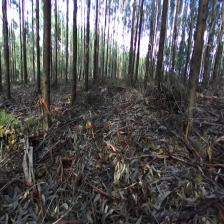trunk: (184, 8, 208, 118), (154, 4, 167, 86), (41, 7, 50, 123), (2, 5, 11, 100), (143, 21, 154, 89), (71, 5, 77, 100), (134, 24, 142, 80), (84, 22, 90, 91), (22, 20, 27, 82), (36, 18, 40, 90)
